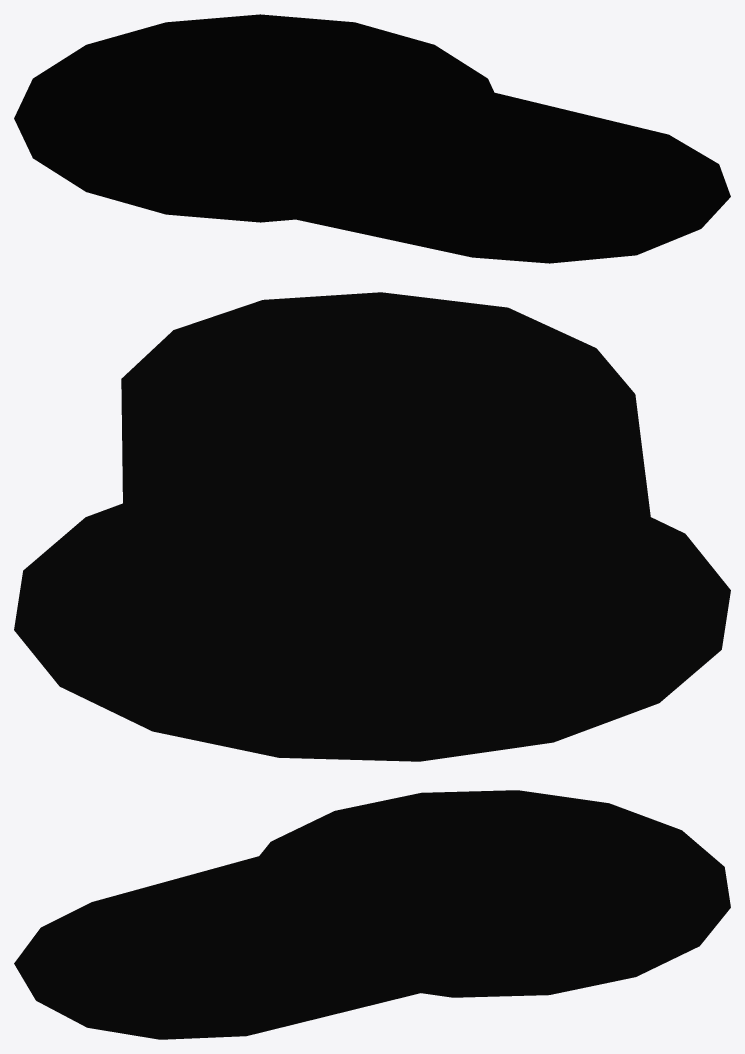
3 renders of one model, top to bottom at view 1: azimuth 30°, elevation 25°; view 2: azimuth 150°, elevation 25°; view 3: azimuth 270°, elevation 25°, orthographic. The views are drawn at different scales.
Visible parts, largest first — view 1: Joint_0_Object_0; view 2: Joint_0_Object_0; view 3: Joint_0_Object_0.
Boxes of the visible parts, <box> form: Joint_0_Object_0: <box>14,14,730,263</box>; Joint_0_Object_0: <box>14,292,730,761</box>; Joint_0_Object_0: <box>14,790,730,1039</box>.
Bounding box in the file's own units: 399 × 0 × 485.
1 material, 1 textured.
